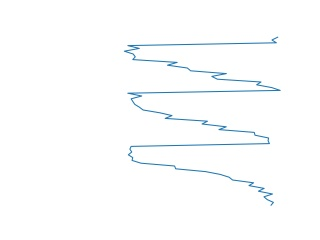distributaryMouthBar: (120, 32, 282, 206)
